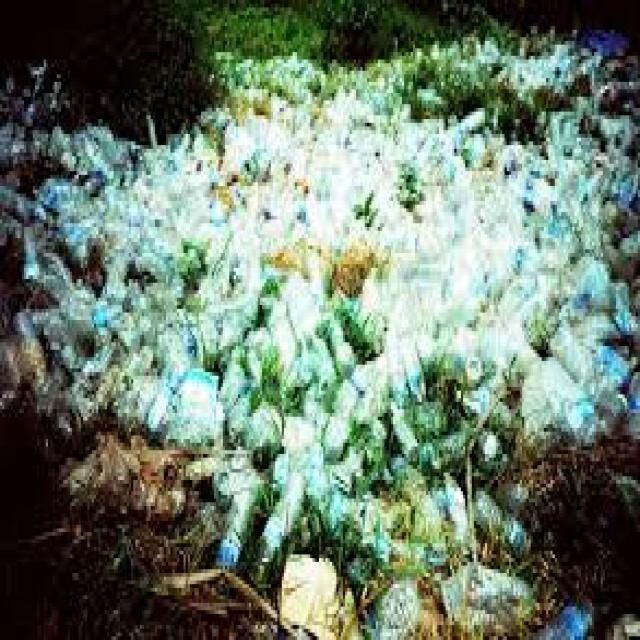plastic: (141, 142, 623, 440)
